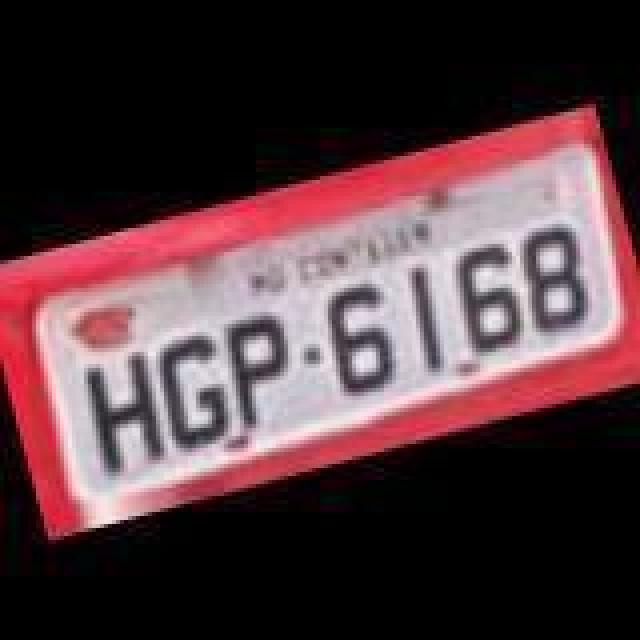1: (392, 250, 456, 374)
6: (310, 272, 410, 400), (444, 236, 532, 356)
8: (510, 216, 594, 336)
G: (146, 330, 238, 454)
H: (74, 342, 182, 482)
P: (210, 308, 310, 428)
